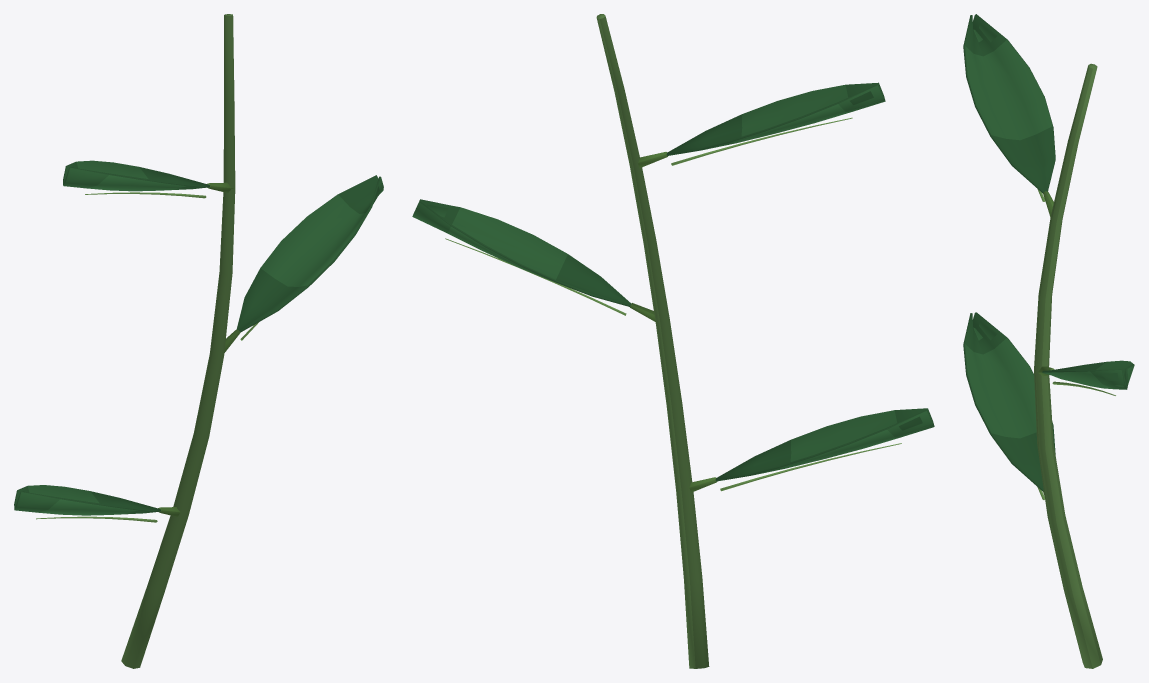
The model's file is garden-rose-bloom-stem-2.glb.
The picture shows the model from 3 angles, left to right: view 1: azimuth 30°, elevation 25°; view 2: azimuth 150°, elevation 25°; view 3: azimuth 270°, elevation 25°; orthographic projection. The views are drawn at different scales.
Visible parts, largest first — view 1: rose-bloom-stem-2; view 2: rose-bloom-stem-2; view 3: rose-bloom-stem-2.
Part boxes in pixels (x1,y1,x2,y2): rose-bloom-stem-2: (14, 14, 383, 668); rose-bloom-stem-2: (412, 14, 934, 668); rose-bloom-stem-2: (963, 14, 1134, 668).
Bounding box in the file's own units: 0.3506 × 0.4732 × 0.1132.
